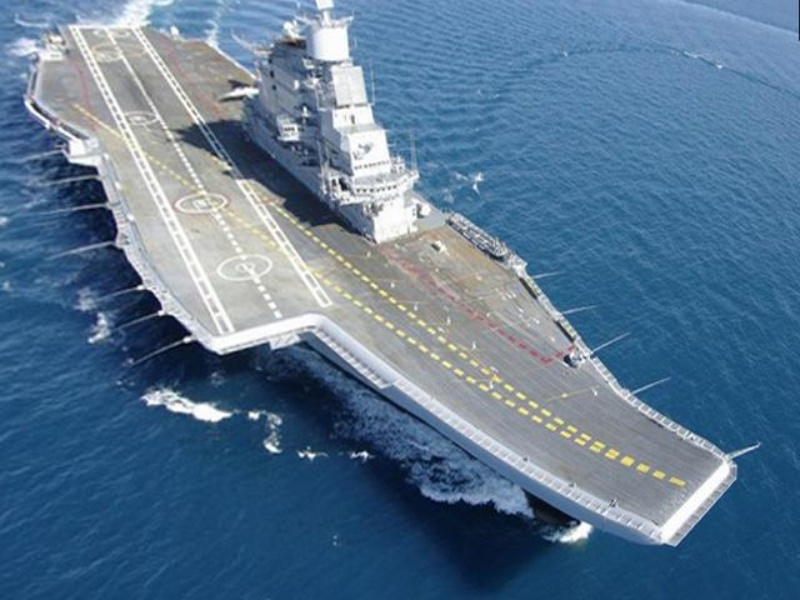carrier: (38, 14, 743, 537)
